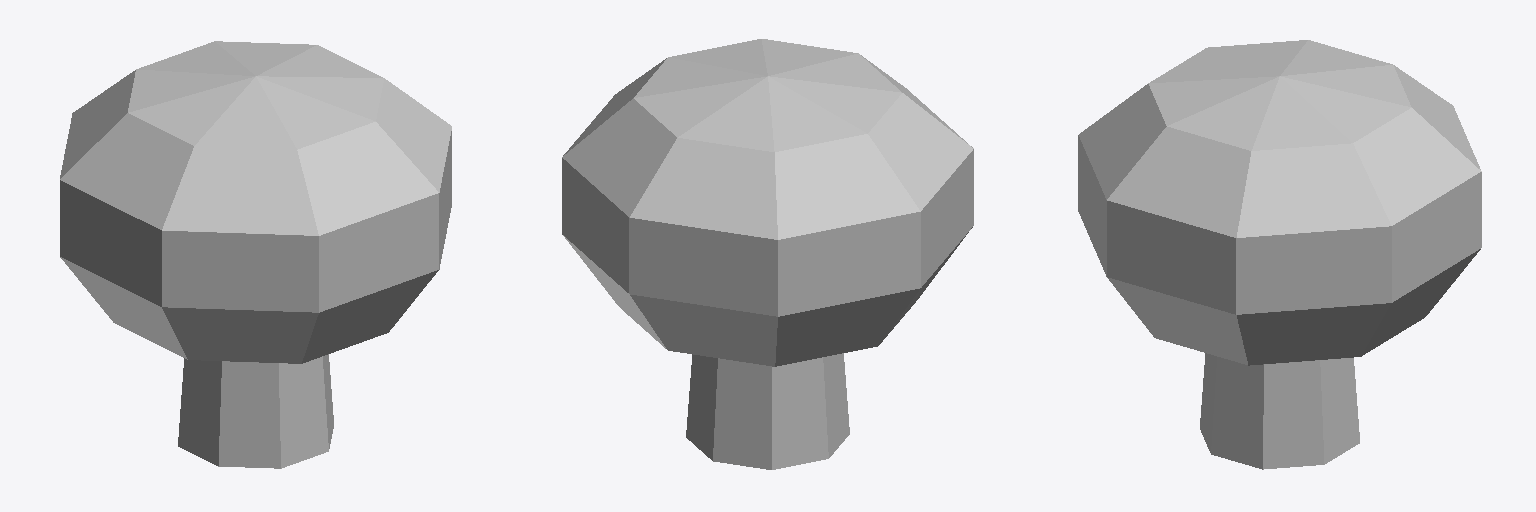
File: Musshroom_1_2.obj
3 views of the same model, side by side, from view 1: azimuth 30°, elevation 25°; view 2: azimuth 150°, elevation 25°; view 3: azimuth 270°, elevation 25° (orthographic).
Parts seen in each view (by area): view 1: Musshroom_1_2; view 2: Musshroom_1_2; view 3: Musshroom_1_2.
Part boxes in pixels (x1,y1,x2,y2): Musshroom_1_2: (60,41,451,468); Musshroom_1_2: (562,39,973,469); Musshroom_1_2: (1078,40,1481,469).
Size of the model in its own units: 0.0886 by 0.0871 by 0.0886.